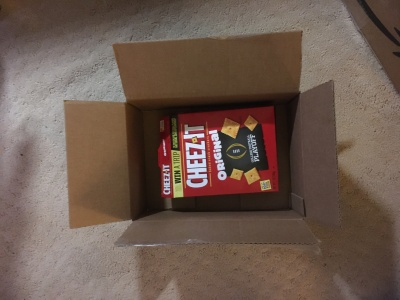innerbox: (125, 91, 304, 222)
outerbox: (67, 40, 338, 246)
product: (156, 113, 277, 191)
